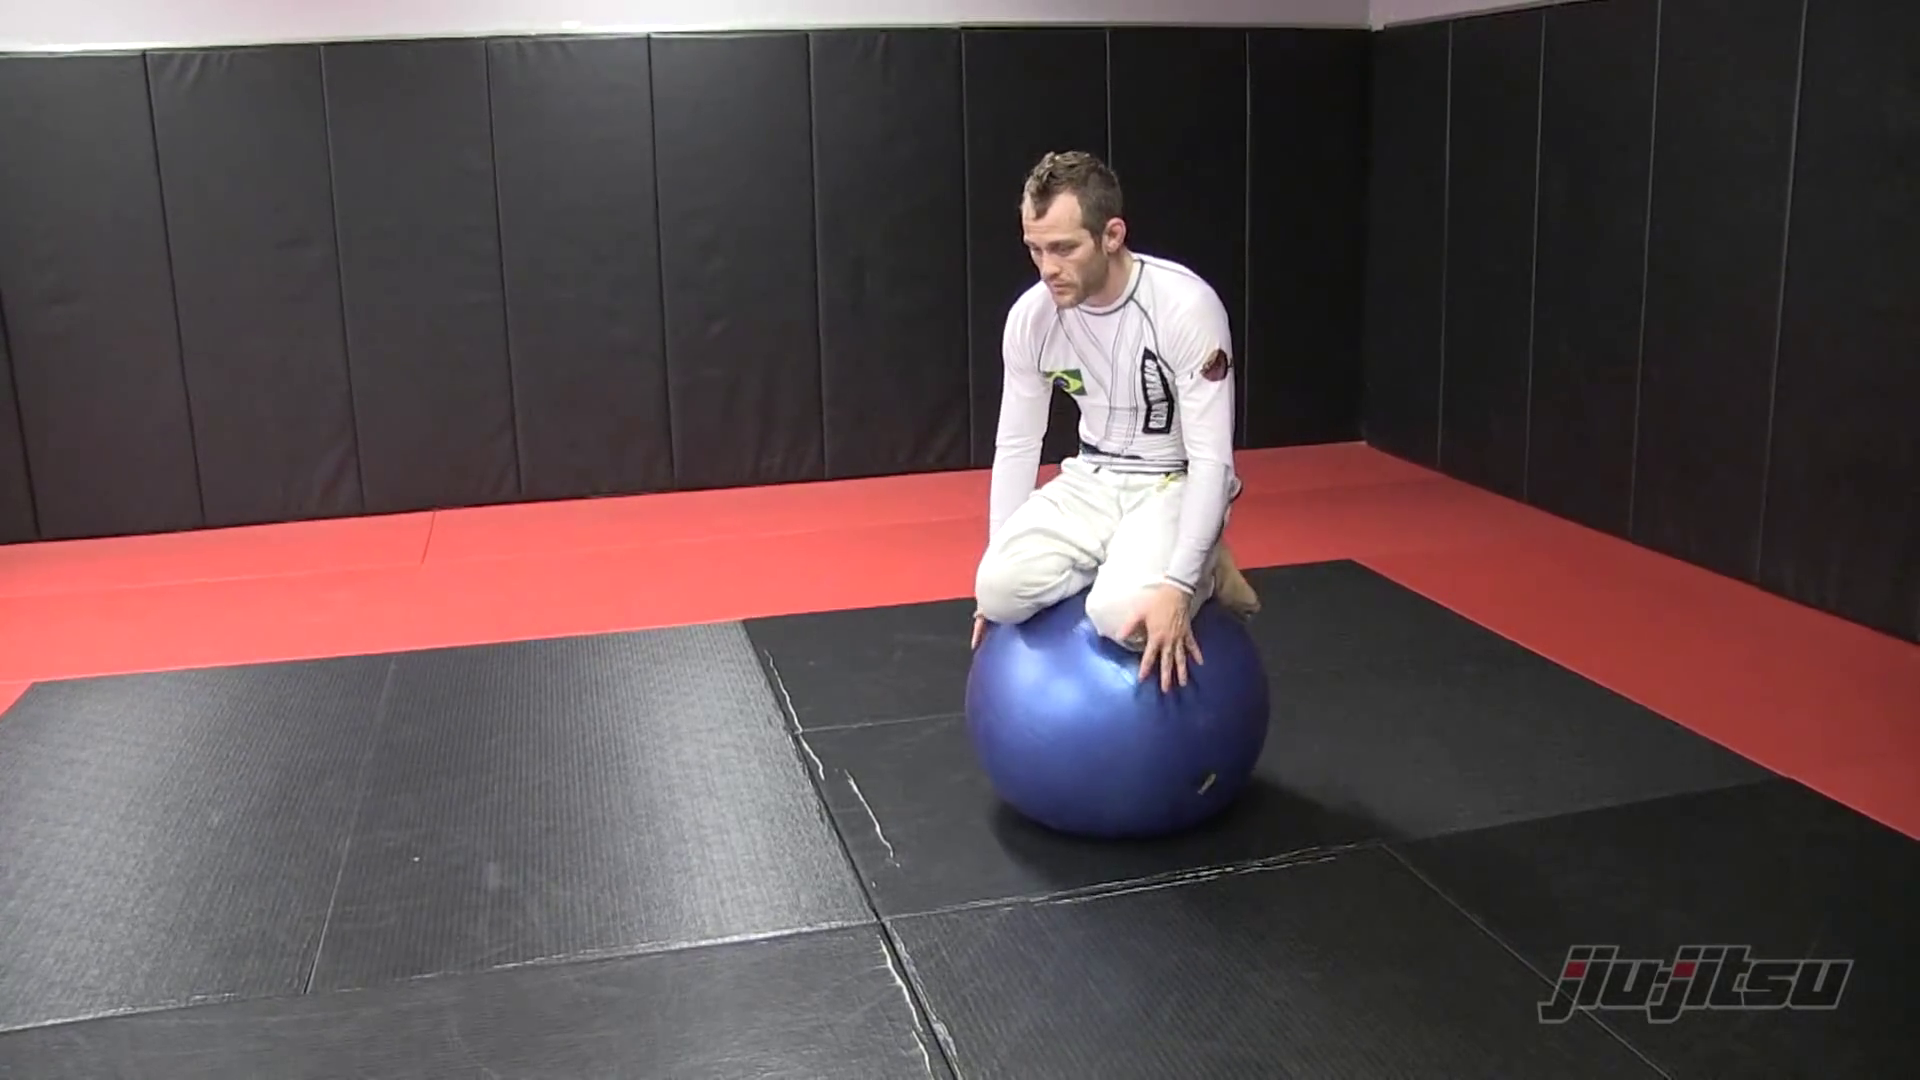yogaball: (949, 568, 1292, 870)
